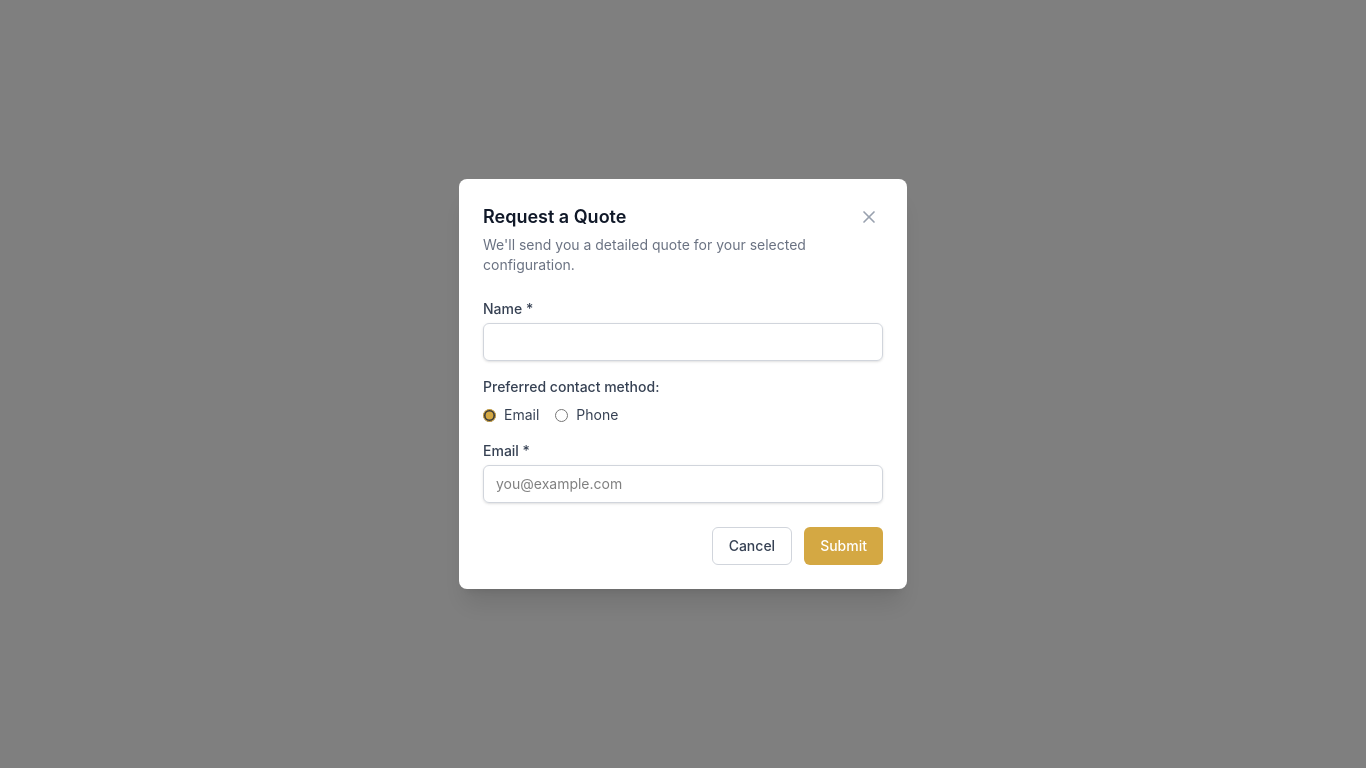
ContactModal › validates phone format
This screenshot has width=1366, height=768.
Type "John" into the field labelled "Name *".
click(683, 342); type("John")  # box x1=483 y1=323 x2=883 y2=361
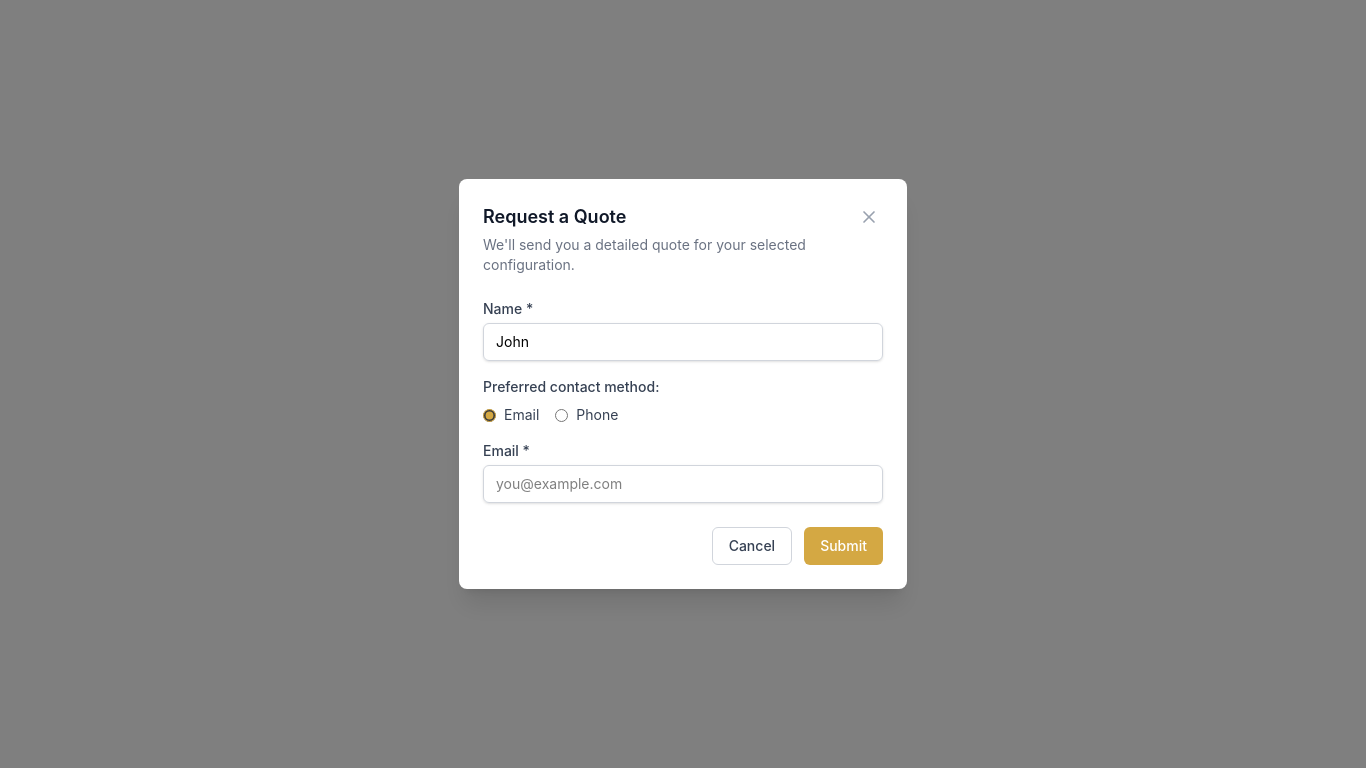
Click the radio button labelled "Phone".
click(562, 415)  # box x1=555 y1=408 x2=568 y2=422
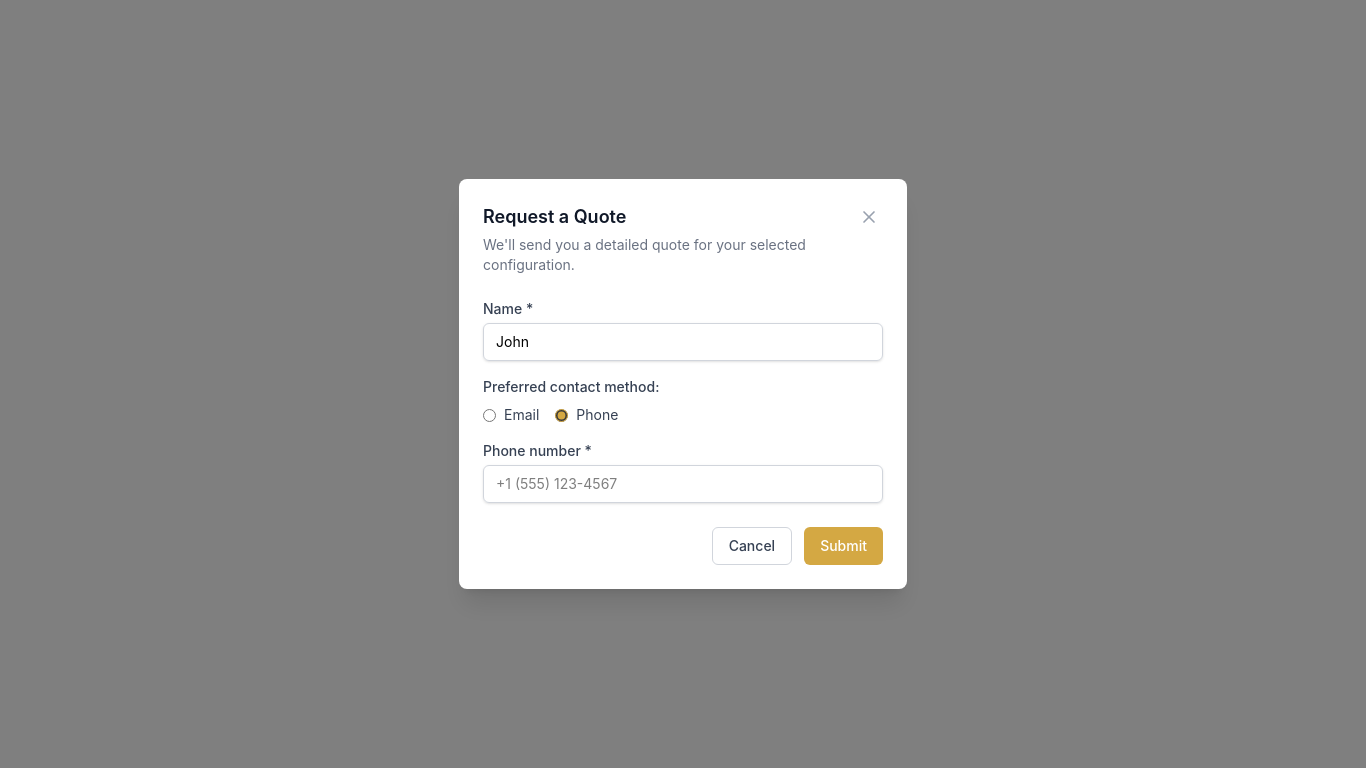
Type "123" into the field labelled "Phone number *".
click(683, 484); type("123")  # box x1=483 y1=465 x2=883 y2=503
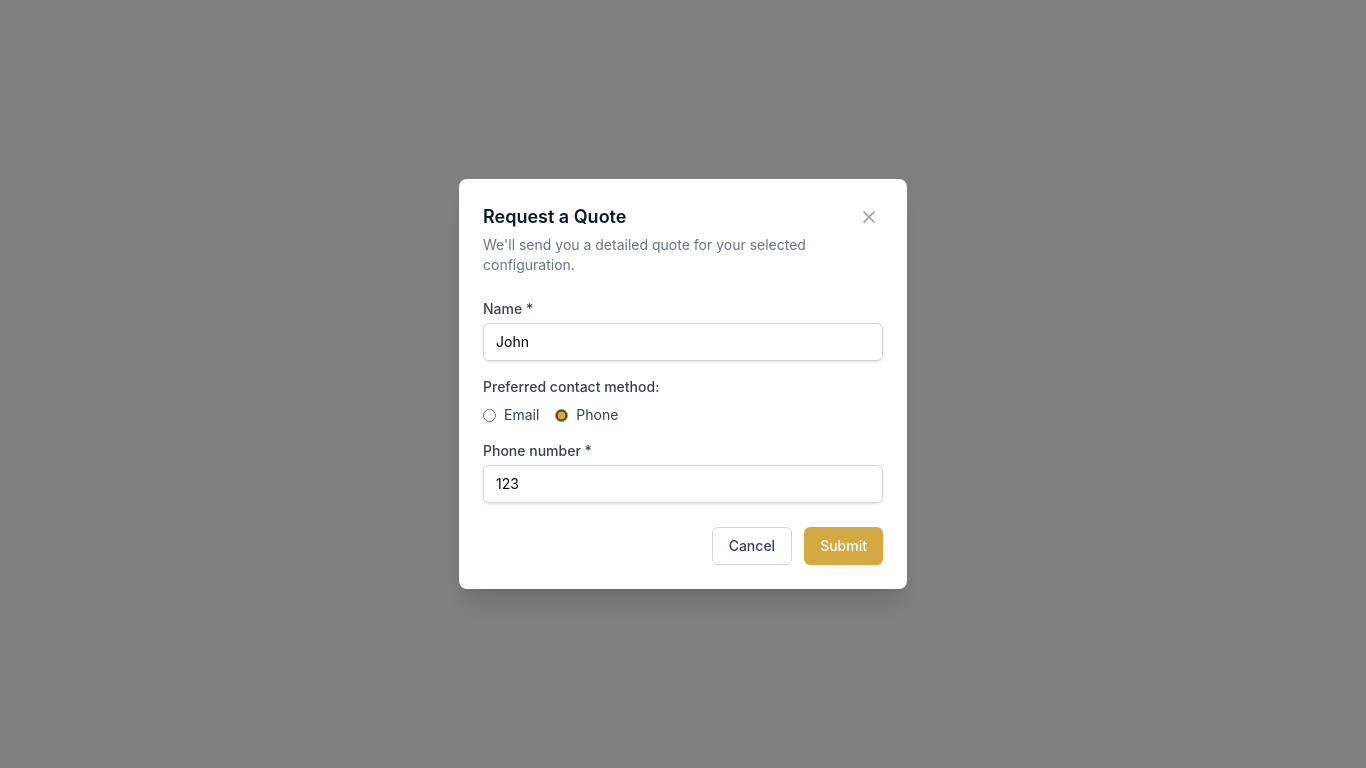
Click the button "Submit".
click(844, 546)  # box x1=804 y1=527 x2=883 y2=565
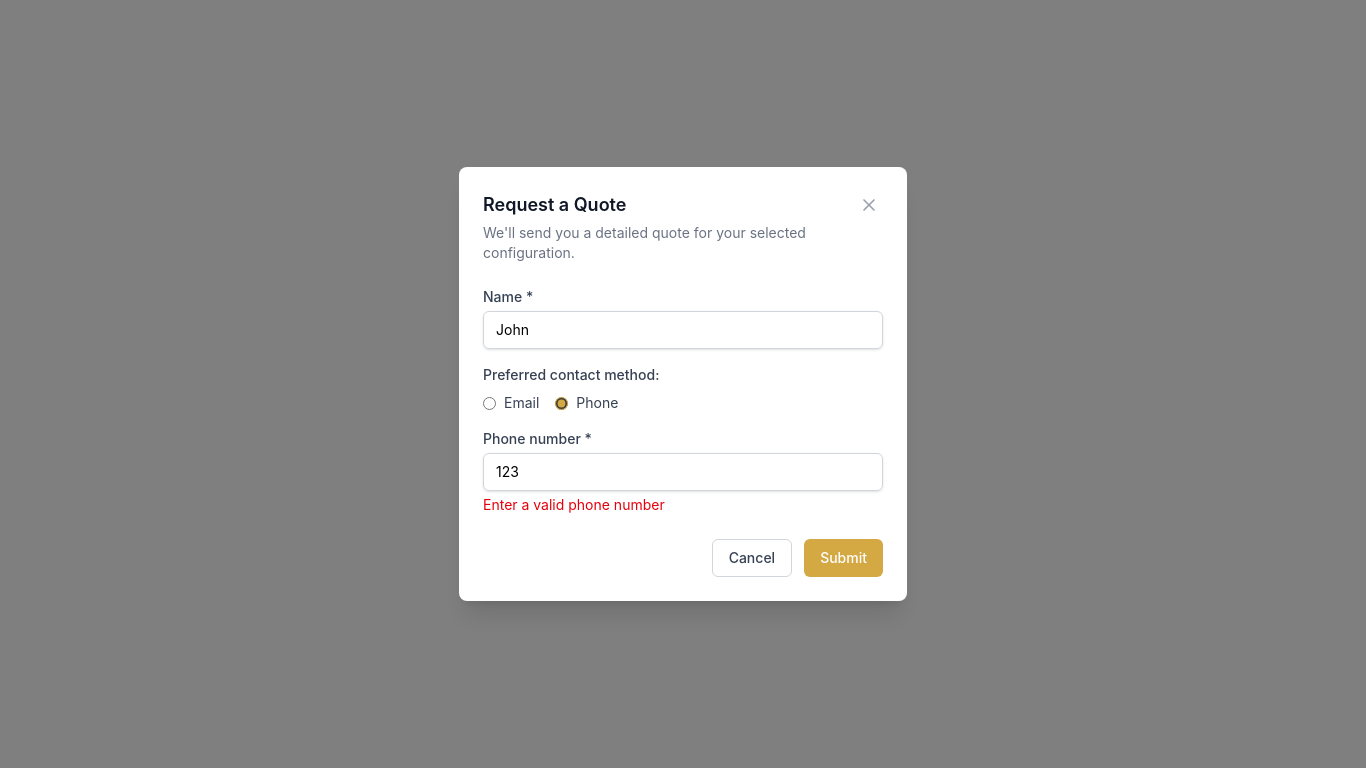
Check: the text "Enter a valid phone number" is shown, box x1=483 y1=496 x2=665 y2=513
